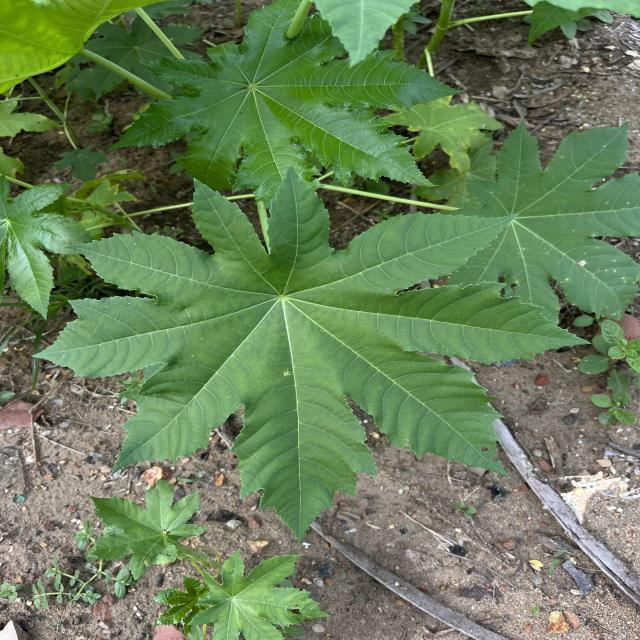Ricinus communis linn: (26, 159, 598, 551)
